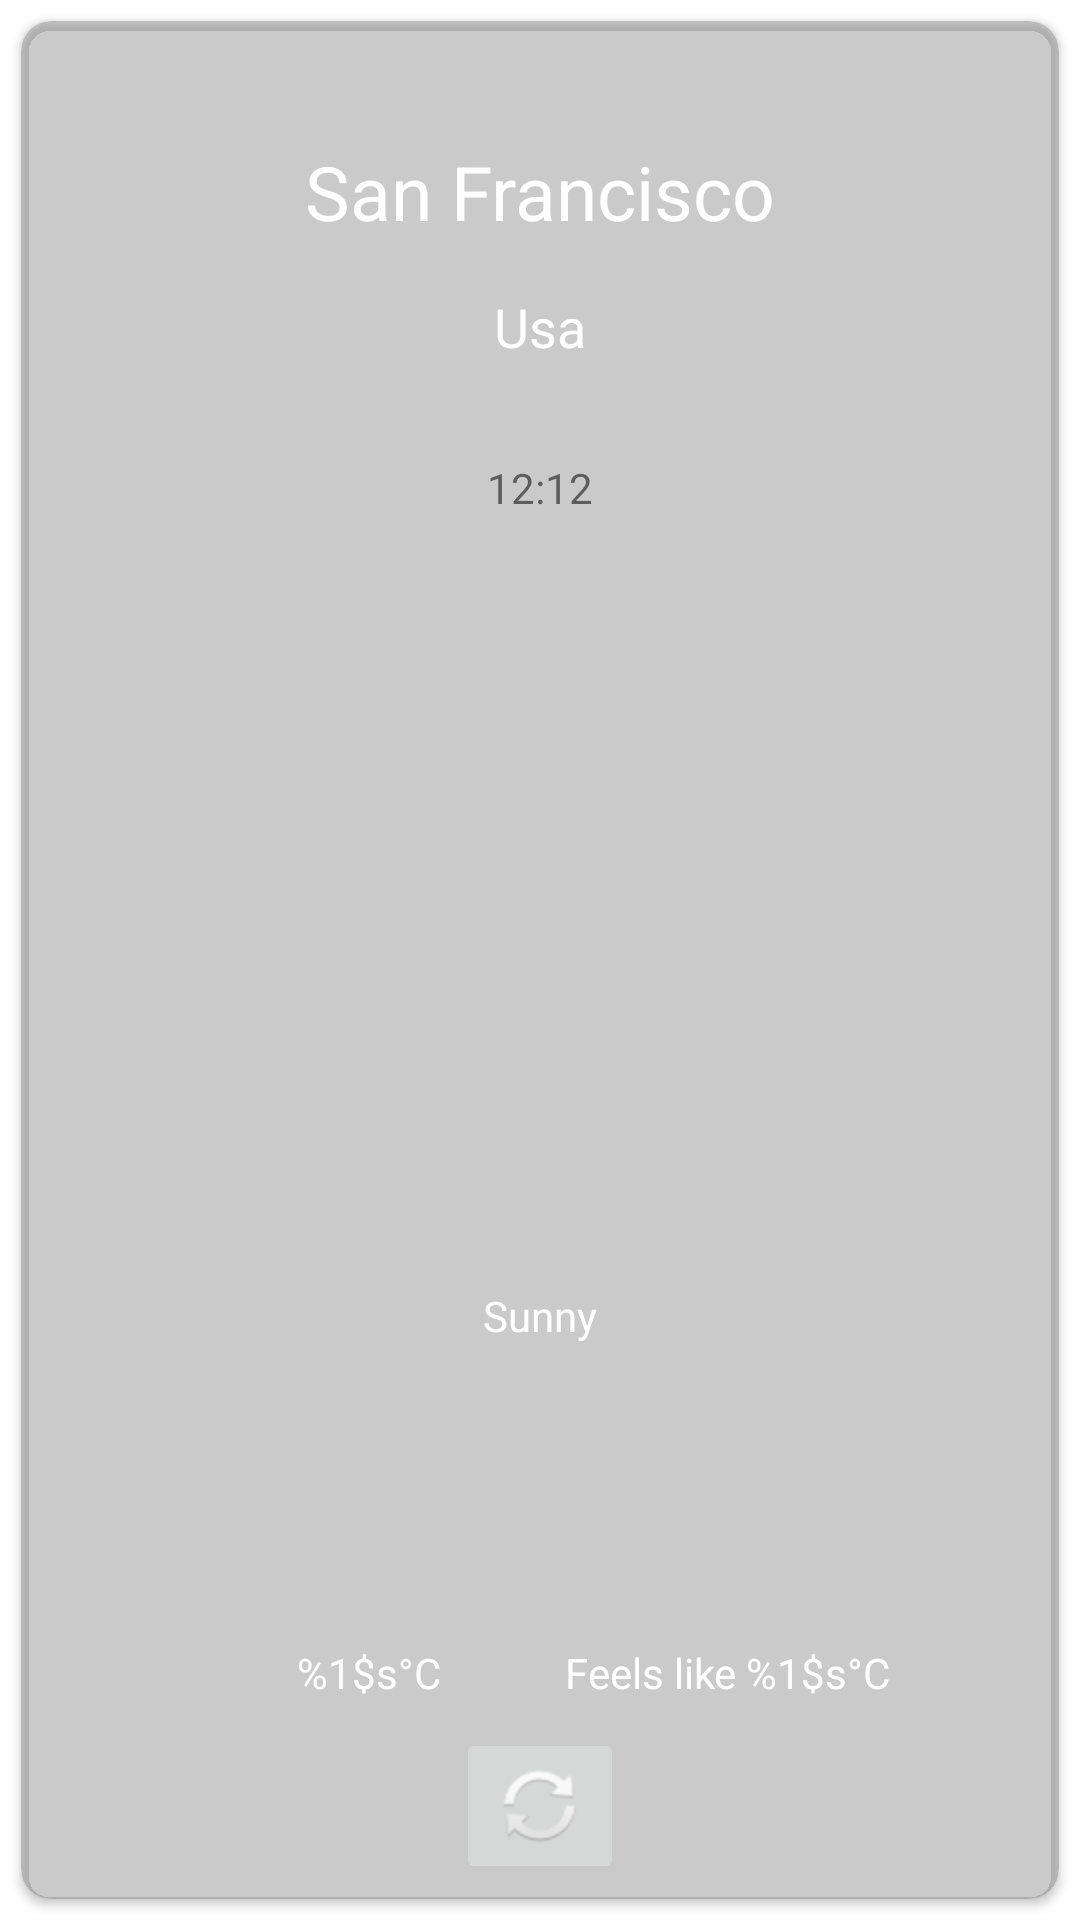

Where to tap for icons on this 1080 x 1920 app screen, as (x,y):
popup sync: (540,1806)
